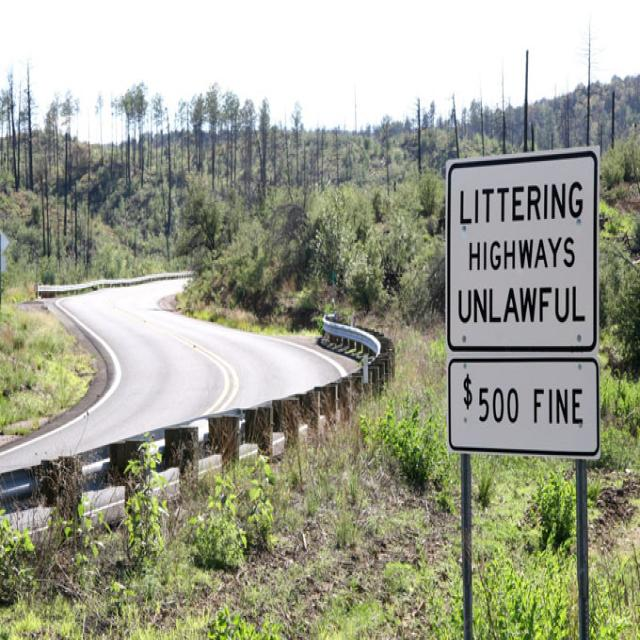Clean road: (0, 264, 427, 543)
